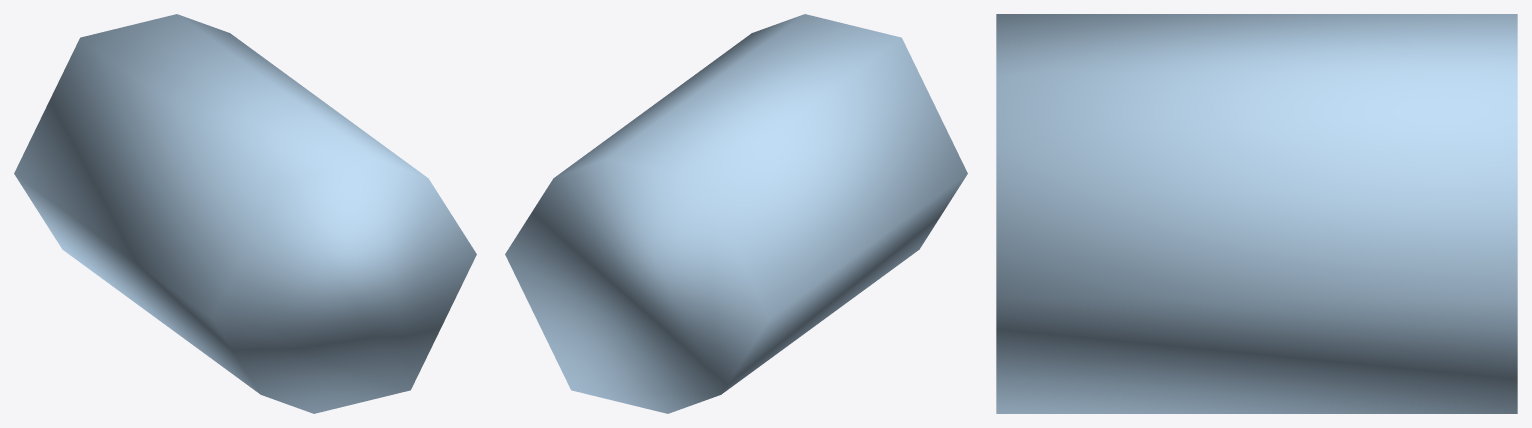
Rendered from red-beryl.glb.
3 views of the same model, side by side, from view 1: azimuth 30°, elevation 25°; view 2: azimuth 150°, elevation 25°; view 3: azimuth 270°, elevation 25° (orthographic). The views are drawn at different scales.
Parts seen in each view (by area): view 1: red-beryl; view 2: red-beryl; view 3: red-beryl.
Boxes of the visible parts, left/top/right/bottom form: red-beryl: left=14, top=14, right=476, bottom=413; red-beryl: left=505, top=14, right=967, bottom=413; red-beryl: left=996, top=14, right=1517, bottom=413.
Size of the model in its own units: 0.4619 by 0.4 by 0.6.
